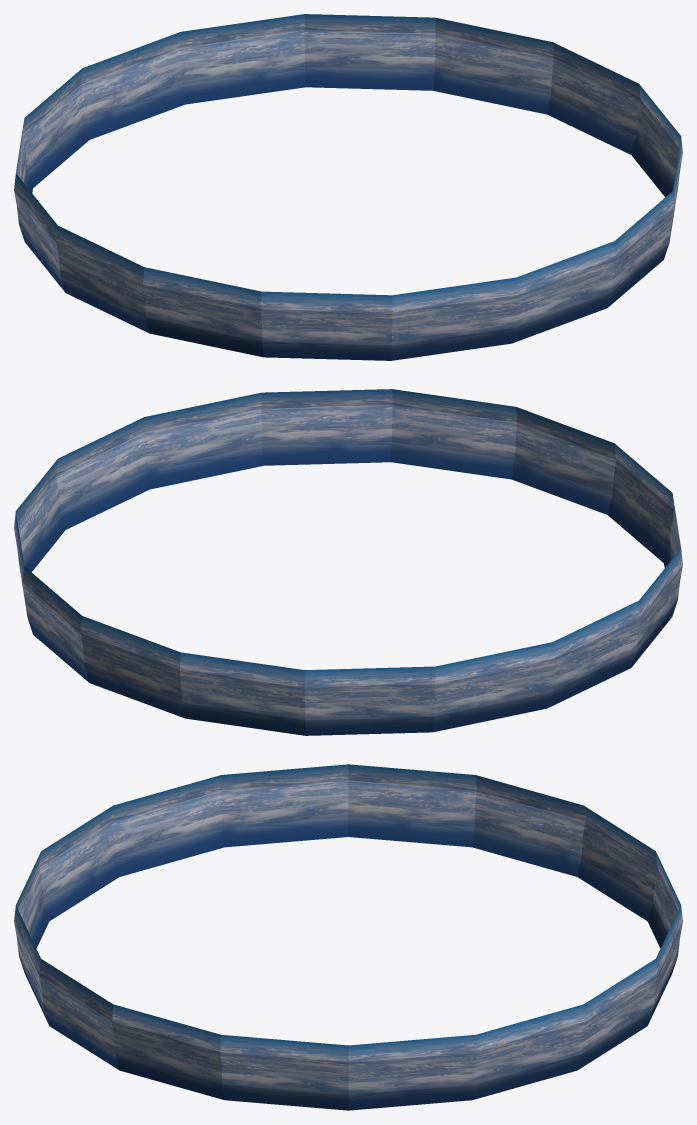
Rendered from S13_AFN_20.OBJ.
3 views of the same model, one above another, from view 1: azimuth 30°, elevation 25°; view 2: azimuth 150°, elevation 25°; view 3: azimuth 270°, elevation 25° (orthographic).
Parts seen in each view (by area): view 1: s13_afn_20_0; view 2: s13_afn_20_0; view 3: s13_afn_20_0.
Part boxes in pixels (x1=…): s13_afn_20_0: x1=14, y1=14, x2=682, y2=360; s13_afn_20_0: x1=14, y1=389, x2=682, y2=735; s13_afn_20_0: x1=14, y1=764, x2=682, y2=1110.
Bounding box in the file's own units: 468892 × 53310 × 468892.
1 material, 1 textured.
